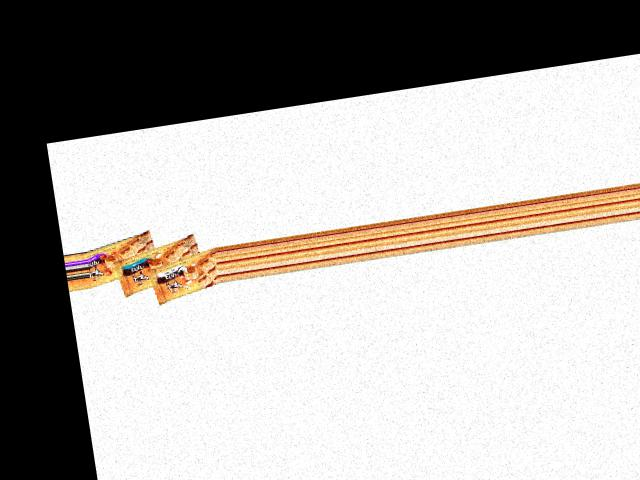chocolate: (83, 232, 165, 289)
